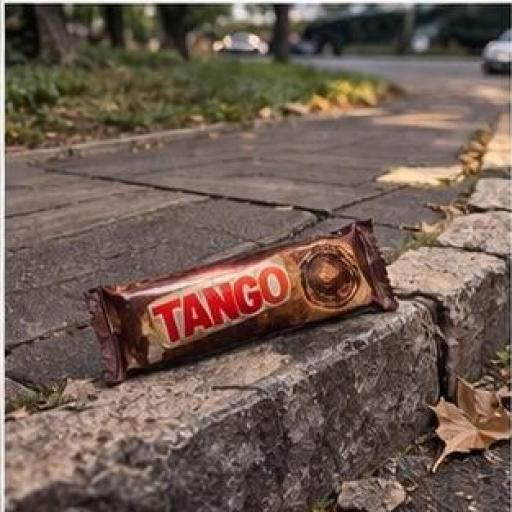tango: (71, 196, 415, 394)
